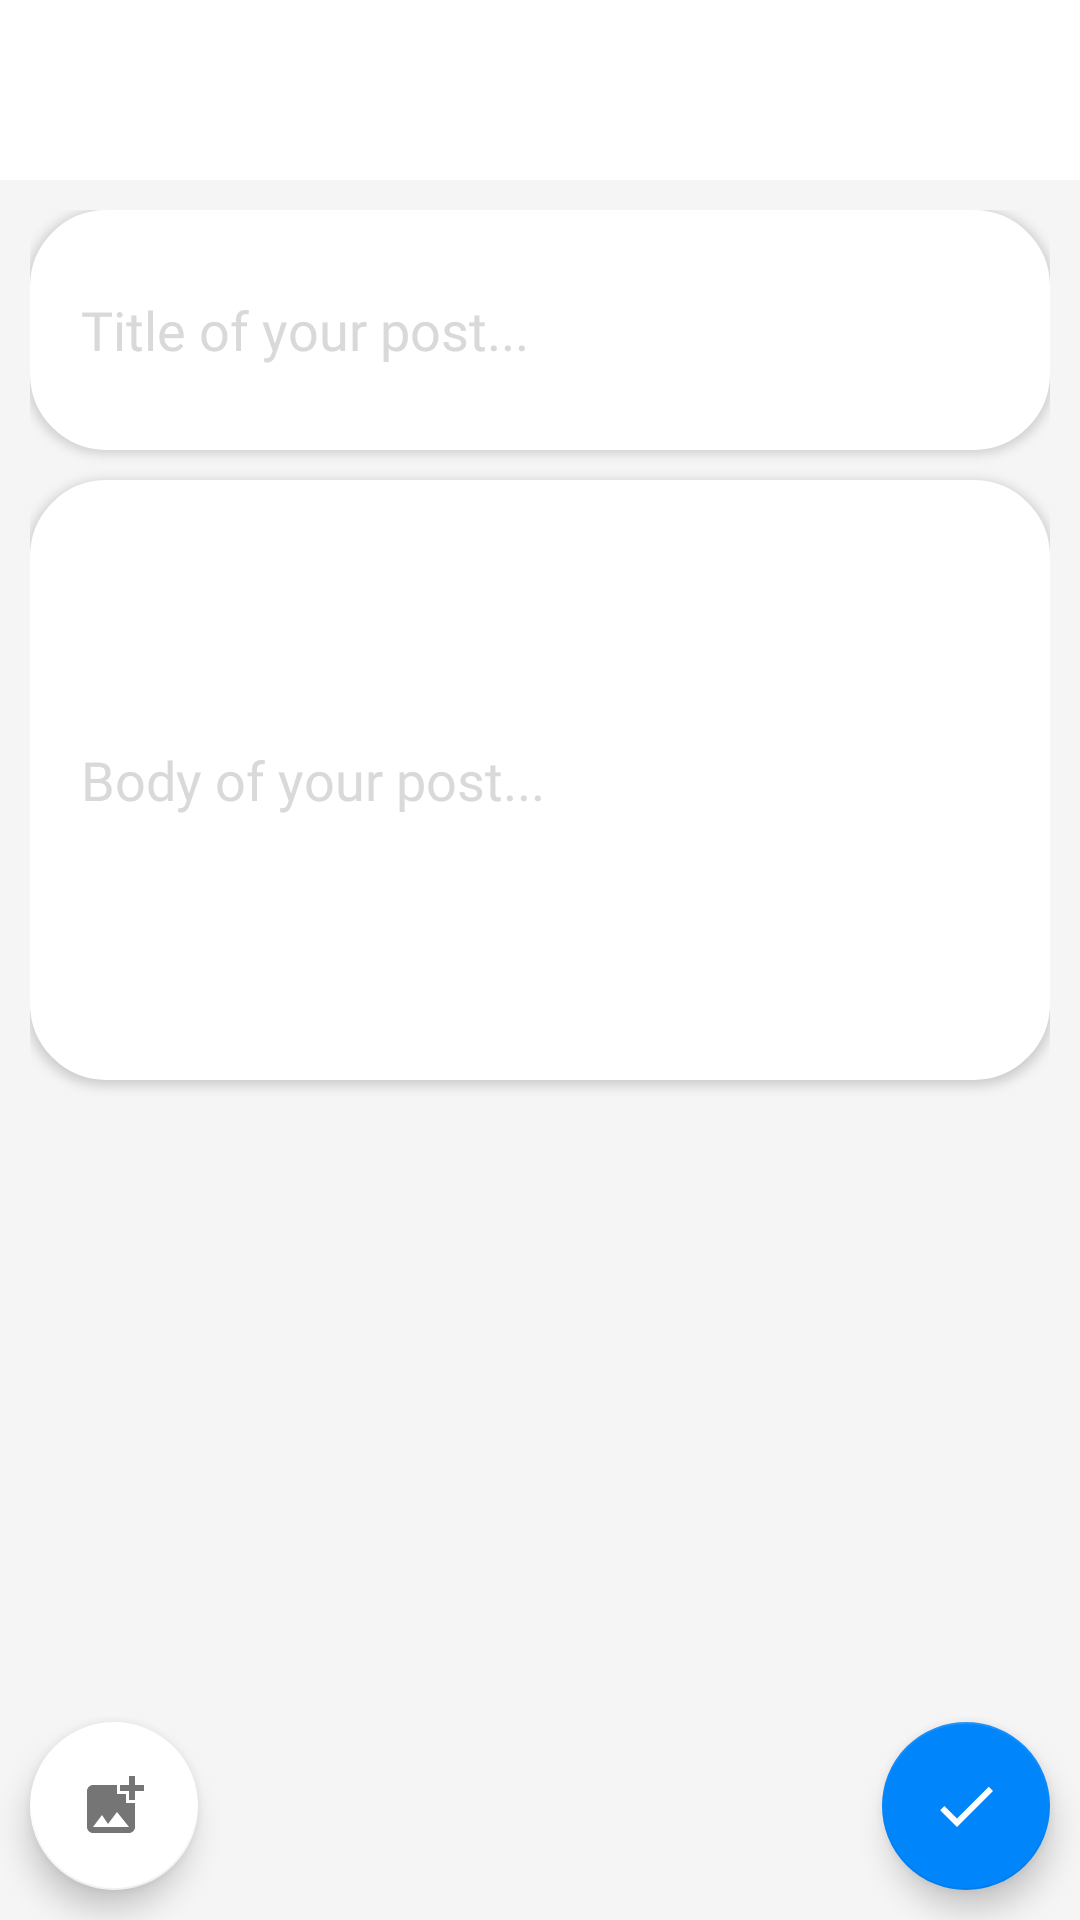

Icons on this 1080px×1920px Android screen, each with its box as (x1, y1, x2, y2):
add: (30, 1722, 198, 1890)
done: (882, 1722, 1050, 1890)
